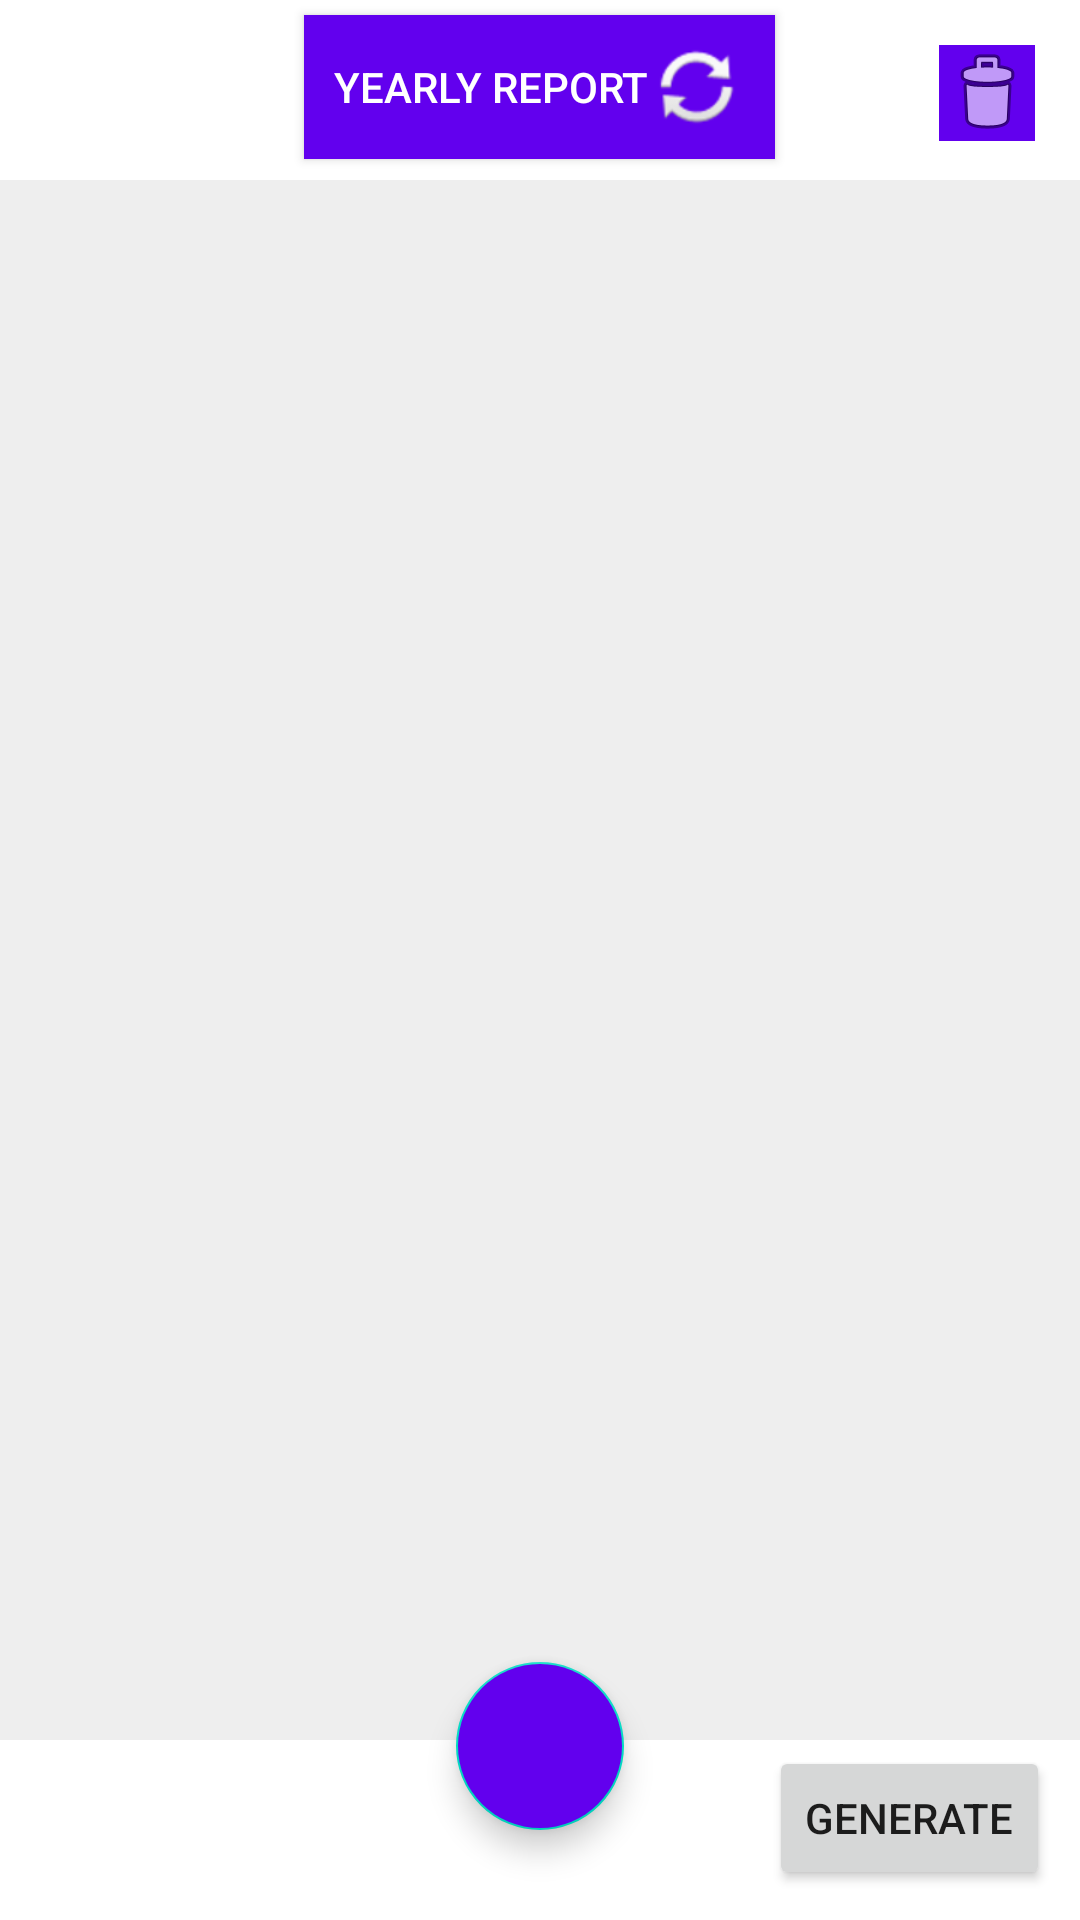

Screen size 1080x1920. Icon name, then its center in pixels as [x,y]:
delete: [987,93]
